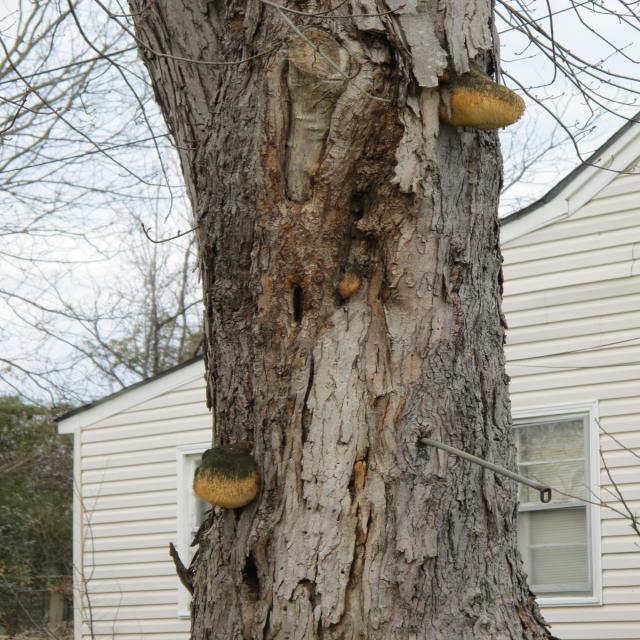Hericium erinaceus: (194, 444, 257, 508), (449, 74, 523, 128)
